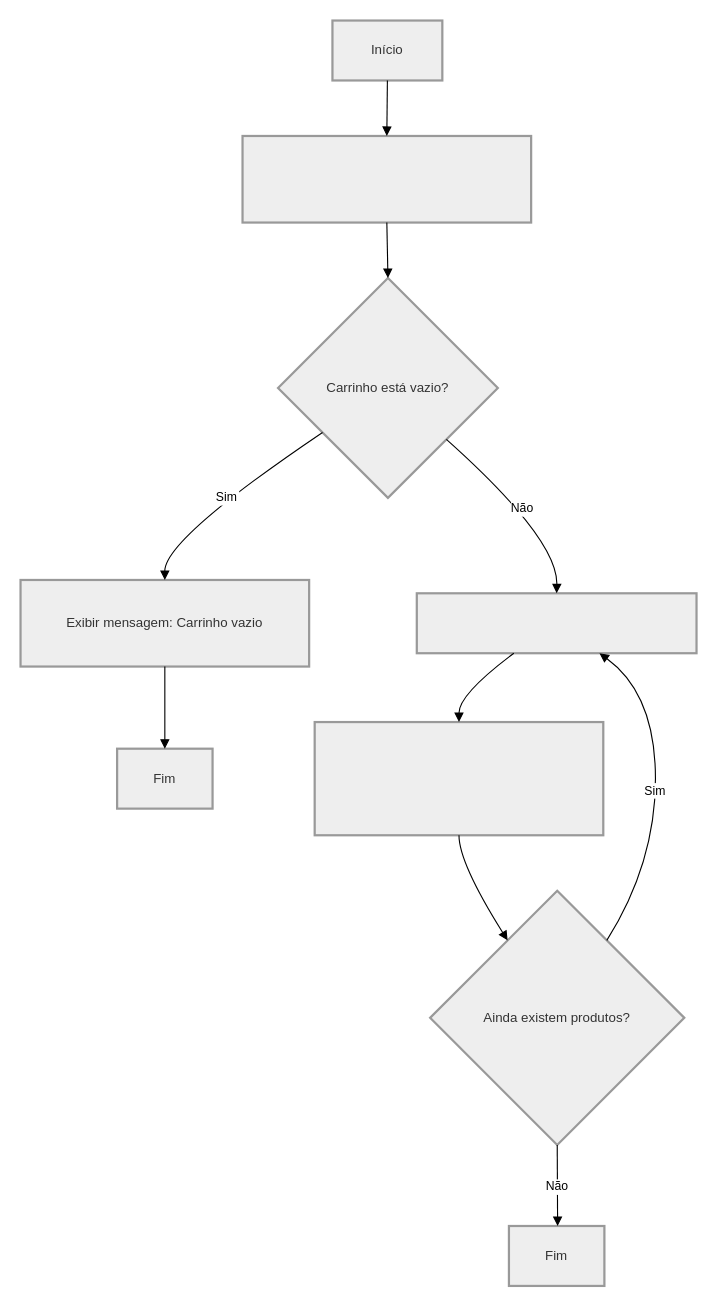
Image size: 716x1305. Some labels were removed from this diagram. The box of each missing label's shape, as (x1, y1, x2, y2) in pixels:
Exibir nome, preço e quantidade de cada produto: (313, 720, 604, 836)
Inicializar lista de produtos no carrinho: (241, 134, 532, 223)
Percorrer lista de produtos: (415, 592, 697, 654)
